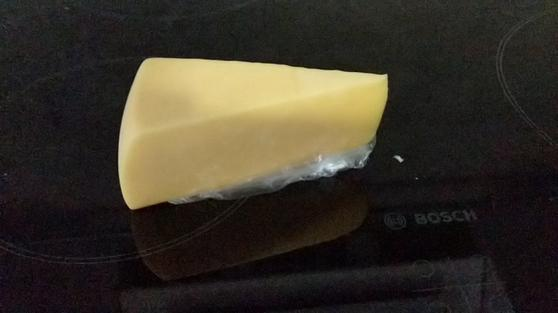cheese: (115, 52, 390, 215)
